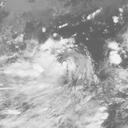cyclone: (24, 48, 101, 116)
